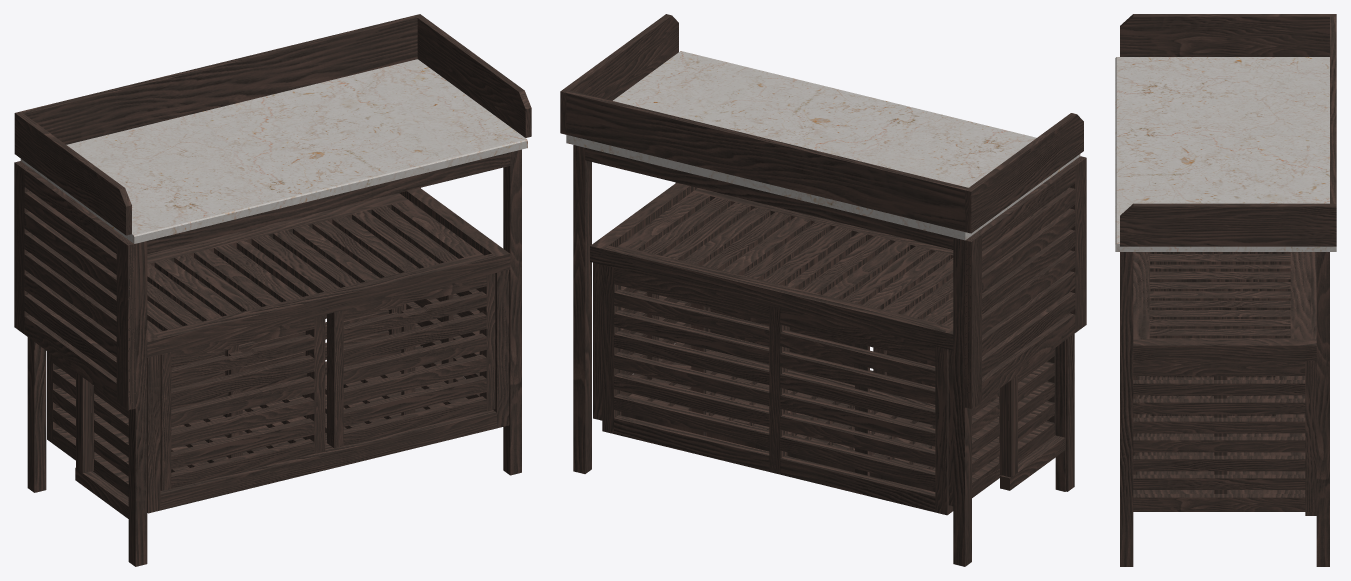
Rendered from workBenchM_v2.gltf.
The picture shows the model from 3 angles, left to right: view 1: azimuth 30°, elevation 25°; view 2: azimuth 150°, elevation 25°; view 3: azimuth 270°, elevation 25°; orthographic projection. The views are drawn at different scales.
Visible parts, largest first — view 1: workBench, stoneBench, benchExtend, door1, door, Cube, legExtend1; view 2: workBench, stoneBench, benchExtend, legExtend1, Cube, door1; view 3: workBench, stoneBench.
Boxes of the visible parts, x1,y1,x2,y2 form: workBench: (14, 14, 531, 566); stoneBench: (20, 59, 527, 243); benchExtend: (14, 161, 135, 410); door1: (327, 273, 495, 448); door: (160, 315, 325, 490); Cube: (76, 372, 94, 473); legExtend1: (75, 467, 128, 518); workBench: (560, 14, 1083, 566); stoneBench: (566, 51, 1080, 240); benchExtend: (963, 156, 1086, 408); legExtend1: (1000, 340, 1065, 491); Cube: (999, 375, 1017, 477); door1: (706, 307, 854, 367); workBench: (1120, 14, 1336, 566); stoneBench: (1115, 57, 1336, 251).
Bounding box in the file's own units: 10.31 × 9.1 × 5.
3 materials, 3 textured.
